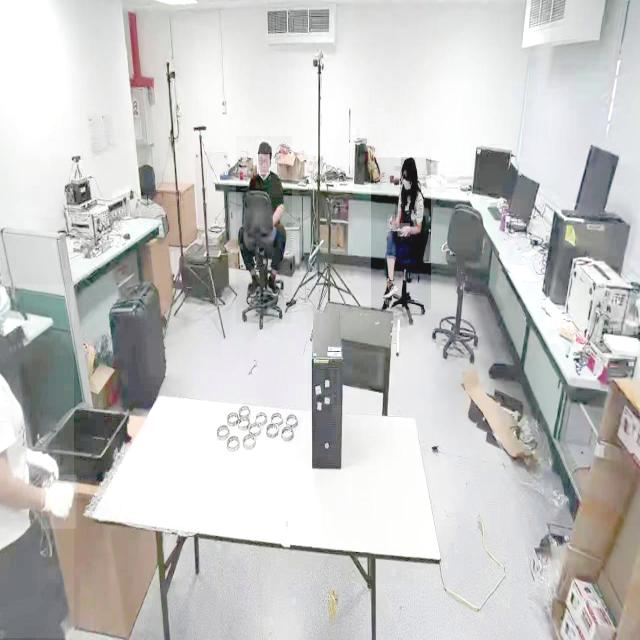face_mask: (401, 166, 417, 190)
face_nomask: (257, 154, 271, 175)
hand_glove: (41, 474, 77, 530), (28, 444, 60, 486)
hand_noglove: (388, 214, 400, 230), (398, 223, 410, 237)
head_nohelmet: (258, 140, 272, 154), (401, 157, 416, 167)
person: (0, 284, 74, 639), (236, 136, 292, 324), (371, 157, 431, 310)
shoes: (246, 272, 262, 300), (382, 275, 398, 302), (266, 269, 280, 298)
